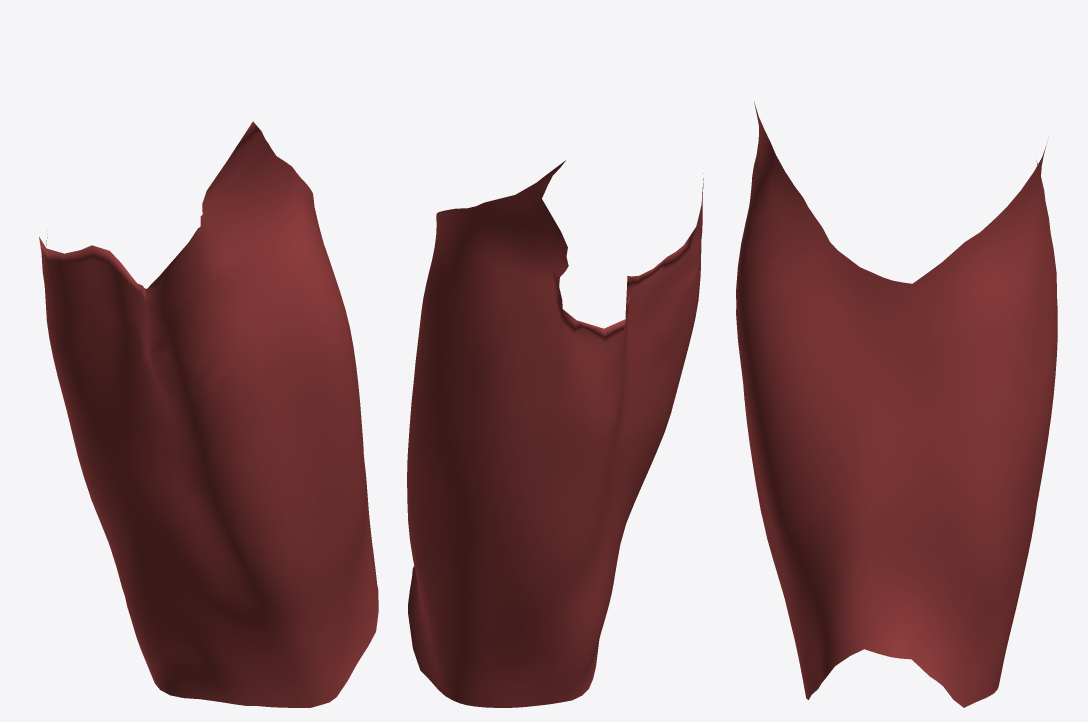
The model's file is brachial-fascia-l.glb.
The picture shows the model from 3 angles, left to right: view 1: azimuth 30°, elevation 25°; view 2: azimuth 150°, elevation 25°; view 3: azimuth 270°, elevation 25°; orthographic projection. The views are drawn at different scales.
Visible parts, largest first — view 1: Brachial fascia.l; view 2: Brachial fascia.l; view 3: Brachial fascia.l.
Part boxes in pixels (bbox=[...]): Brachial fascia.l: bbox=[39, 121, 378, 707]; Brachial fascia.l: bbox=[407, 160, 703, 707]; Brachial fascia.l: bbox=[736, 101, 1057, 707].
Size of the model in its own units: 0.088 by 0.2018 by 0.1015.
